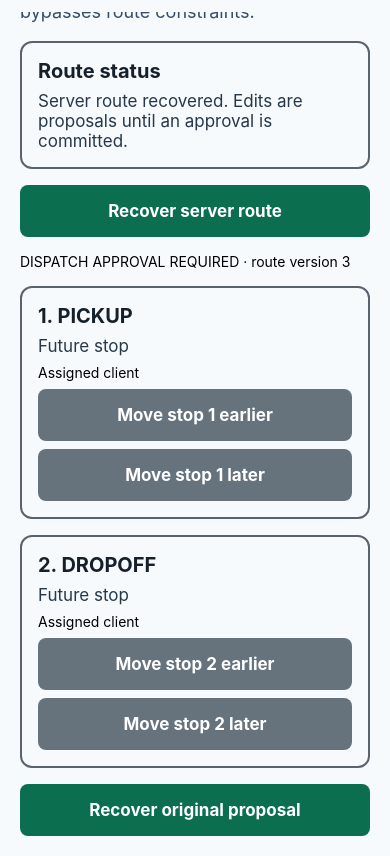
reopened pending proposal uses its original request and key without implying approval
(page scrolled)
Expected: the button "Move stop 1 later" is disabled, [38,449,352,501]
What coordinates should you click on to do the following:
click the button "Recover original proposal"
I would click on:
 (195, 810)
Its box is [20,784,370,836].
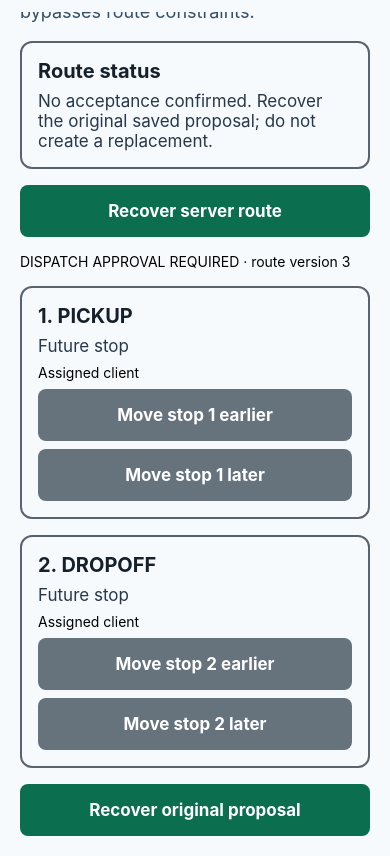
Now the text "No acceptance confirmed" is shown, box [38,91,327,151]
